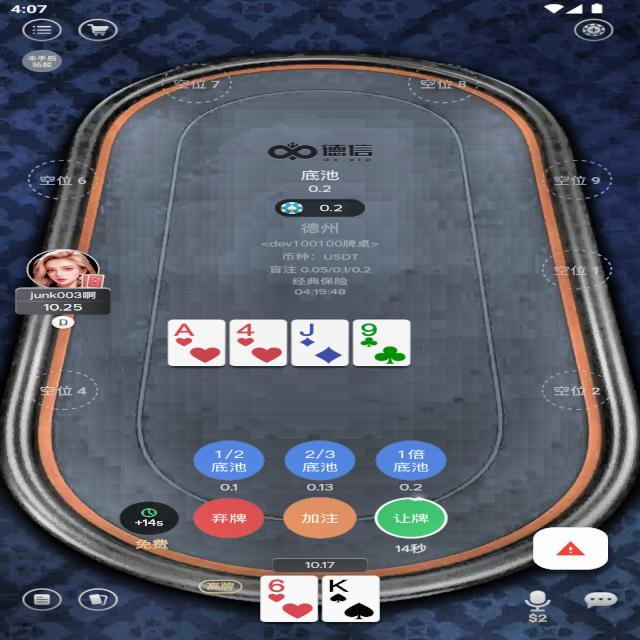4h: (234, 322, 257, 336)
6h: (267, 578, 289, 594)
9m: (358, 322, 381, 337)
Ah: (172, 321, 196, 338)
Jf: (296, 322, 318, 338)
Ks: (326, 576, 349, 594)
